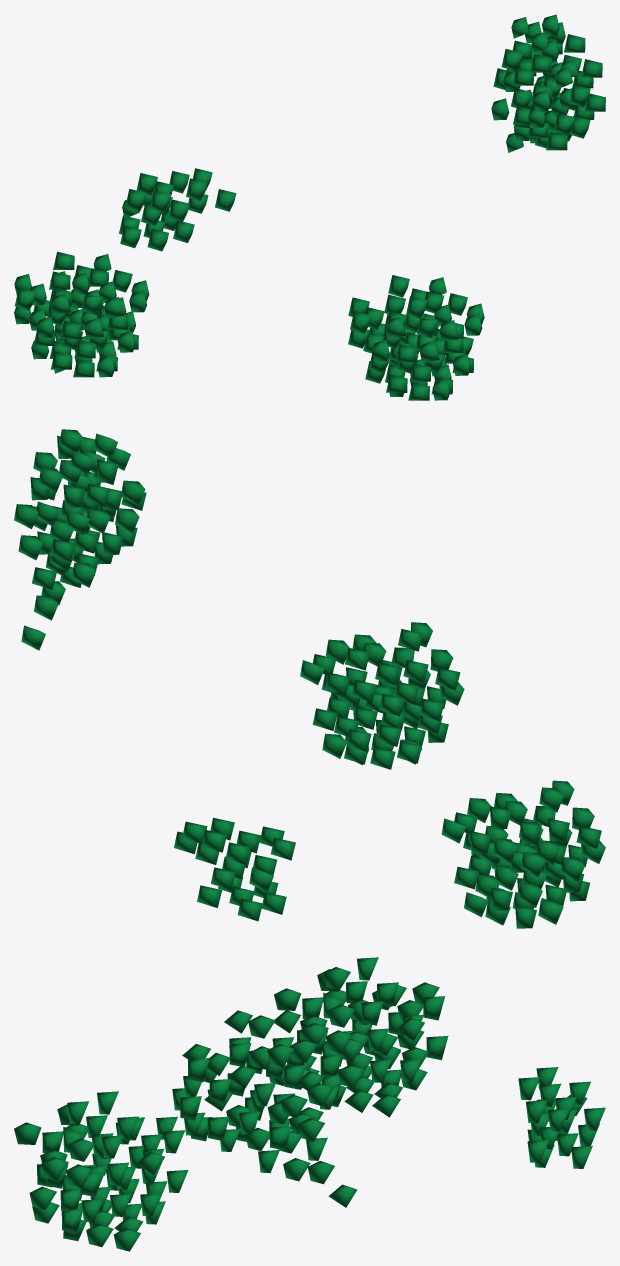
Rendered from golgi2.glb.
3 renders of one model, top to bottom at view 1: azimuth 30°, elevation 25°; view 2: azimuth 150°, elevation 25°; view 3: azimuth 270°, elevation 25°, orthographic. The views are drawn at different scales.
Visible parts, largest first — view 1: Oxygen.002; view 2: Oxygen.002; view 3: Oxygen.002.
Part boxes in pixels (left/top/right/bottom): Oxygen.002: left=14, top=14, right=605, bottom=400; Oxygen.002: left=14, top=429, right=605, bottom=928; Oxygen.002: left=14, top=957, right=605, bottom=1251.
Size of the model in its own units: 2.38 by 1.2 by 1.93.
